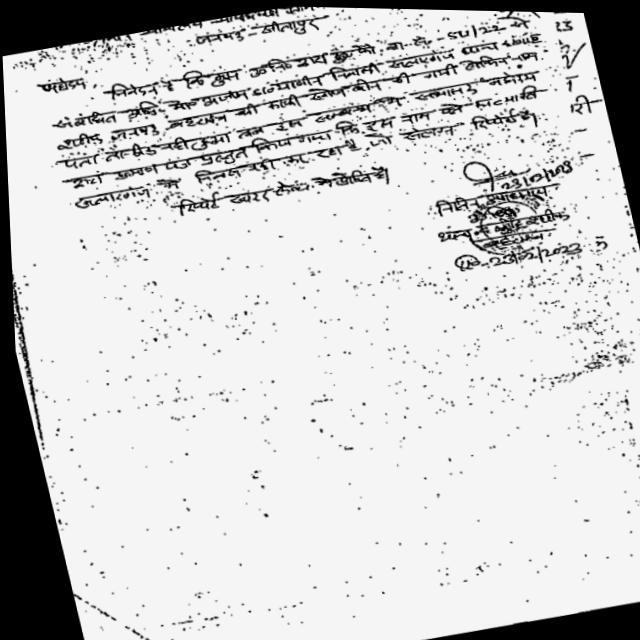logo: (447, 179, 571, 271)
